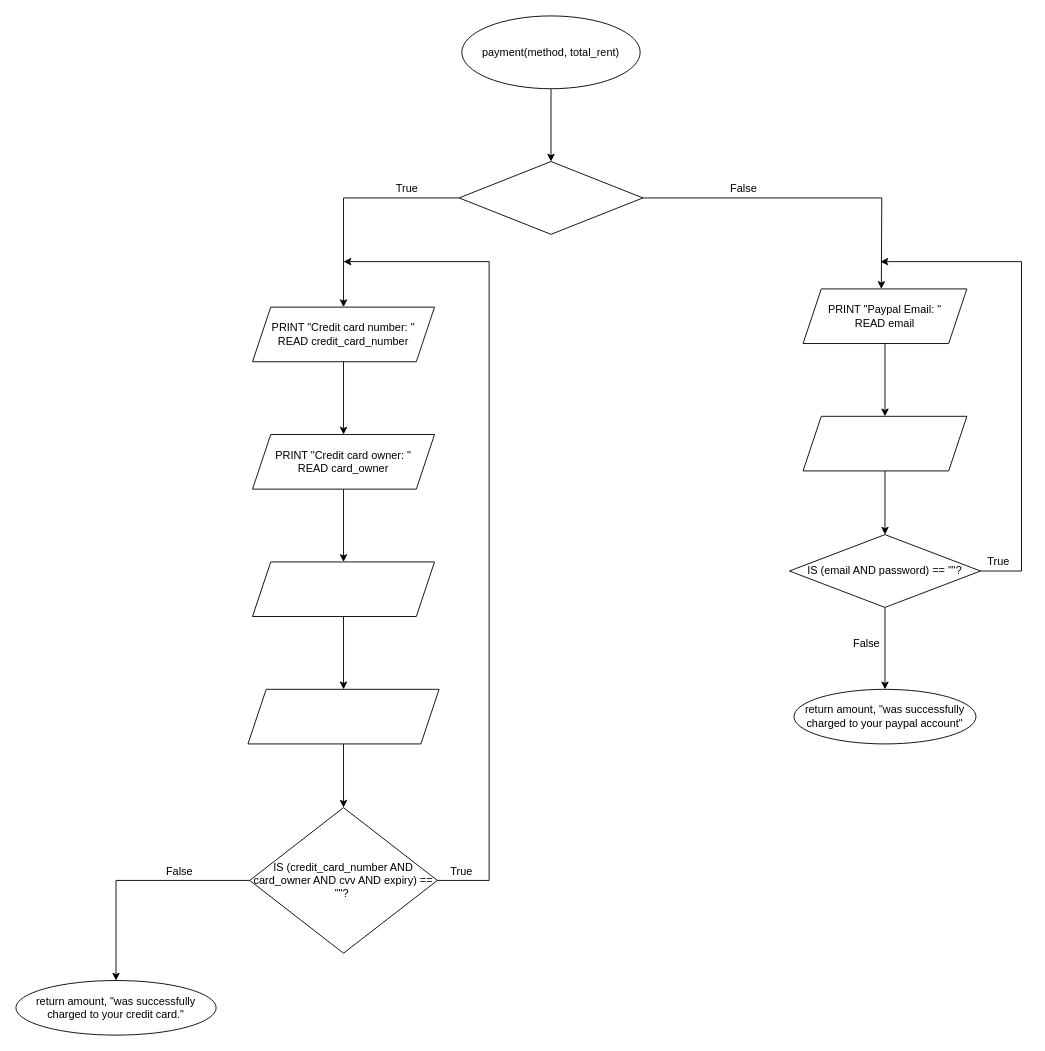
This 1045x1051 diagram has some shape labels left out. Each missing label, with the box of its shape:
is method == "credit card"?: (458, 161, 643, 234)
PRINT "Credit card CVV: " READ cvv: (252, 561, 435, 617)
PRINT "Credit card expiry date: " READ expiry: (247, 688, 439, 744)
PRINT "Paypal Password: " READ password: (802, 415, 967, 471)
